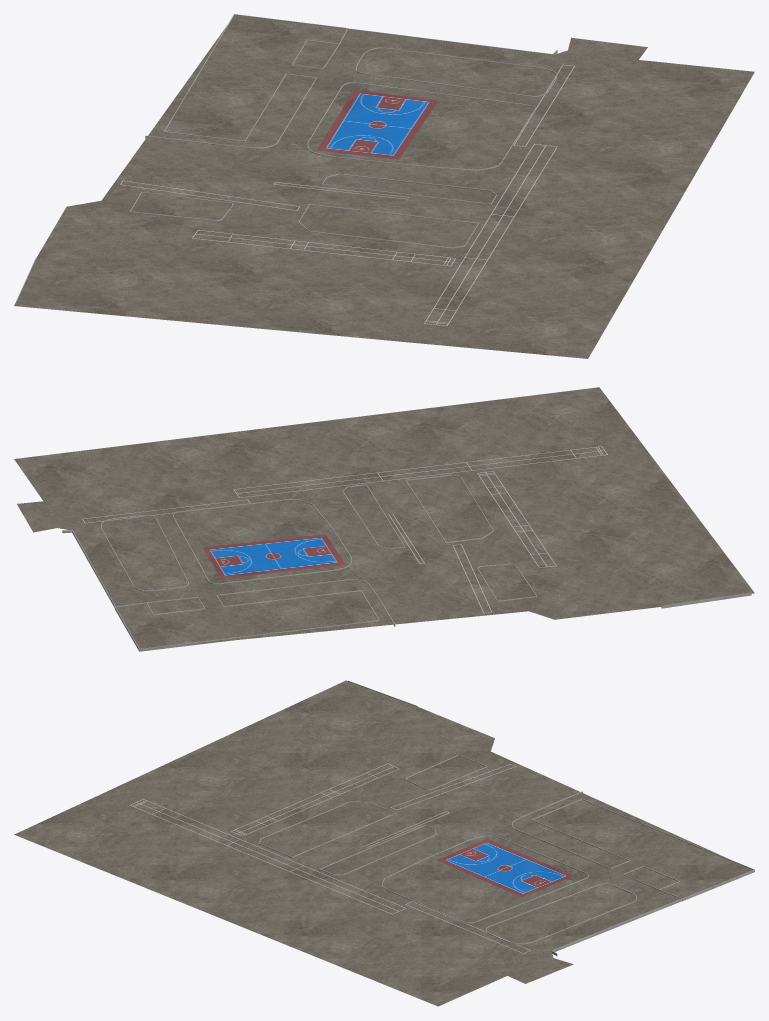
The model's file is road_p04_02.fbx.
3 renders of one model, top to bottom at view 1: azimuth 30°, elevation 25°; view 2: azimuth 150°, elevation 25°; view 3: azimuth 270°, elevation 25°, orthographic. The views are drawn at different scales.
Parts seen in each view (by area): view 1: road_p04_02; view 2: road_p04_02; view 3: road_p04_02.
Part boxes in pixels (<box>): road_p04_02: <box>14,14,754,358</box>; road_p04_02: <box>14,387,754,651</box>; road_p04_02: <box>14,680,754,1006</box>.
Size of the model in its own units: 19931 by 70.07 by 19134.
